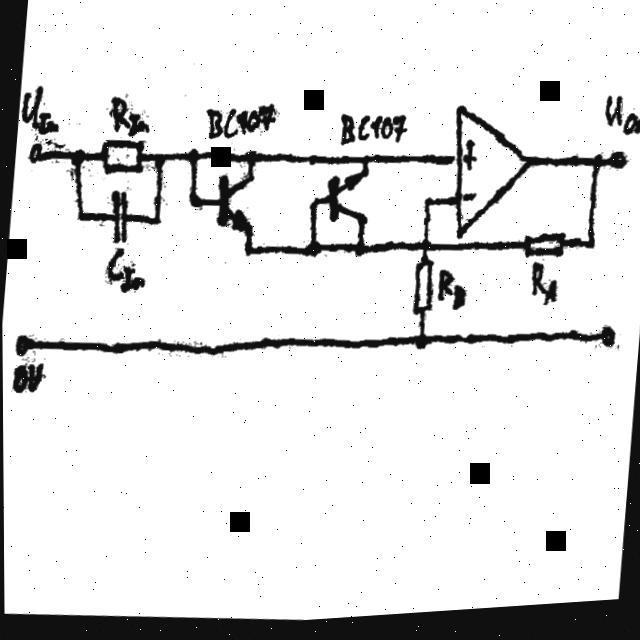capacitor: (104, 189, 136, 247)
junction: (68, 147, 86, 169), (303, 243, 321, 262), (184, 148, 200, 167), (151, 151, 166, 171), (185, 193, 201, 211), (242, 151, 257, 169), (352, 243, 366, 262), (412, 337, 426, 355), (582, 243, 595, 260), (589, 160, 602, 177), (417, 242, 430, 257), (240, 246, 253, 259), (75, 209, 86, 224), (150, 214, 161, 228), (420, 201, 432, 213), (358, 157, 369, 169), (307, 201, 318, 213)
resistor: (96, 138, 146, 176), (409, 263, 435, 320), (520, 237, 565, 267)
terminal: (597, 332, 615, 356), (26, 140, 43, 165), (606, 158, 627, 177), (13, 331, 29, 355)
text: (202, 102, 278, 144), (335, 114, 408, 153), (18, 84, 62, 136), (103, 247, 147, 297), (107, 95, 151, 139), (601, 101, 640, 144), (526, 266, 560, 313), (433, 273, 467, 317), (9, 360, 43, 394)
transistor: (322, 172, 370, 230), (213, 175, 257, 237)
